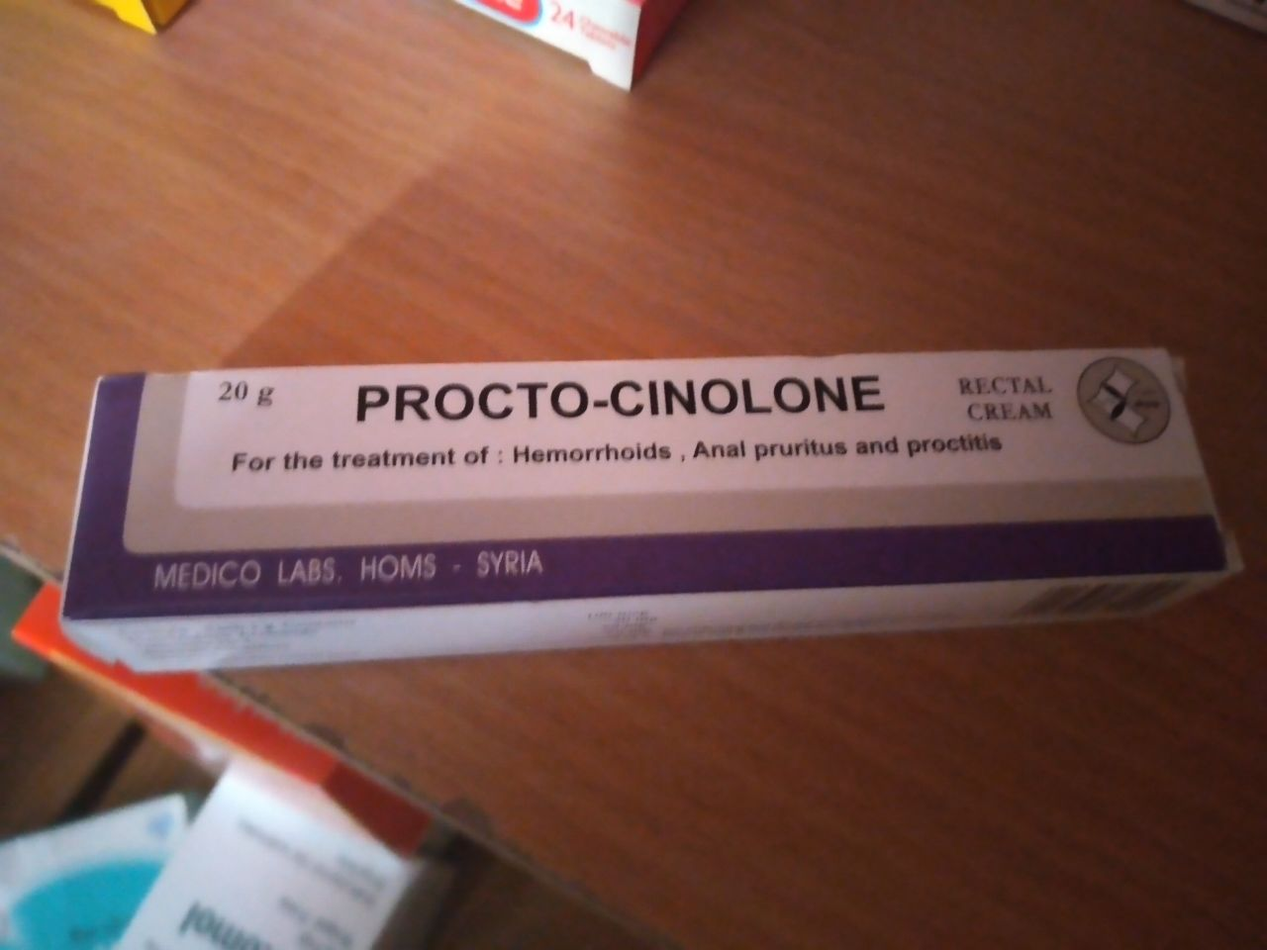Medicine: (72, 346, 1225, 641)
